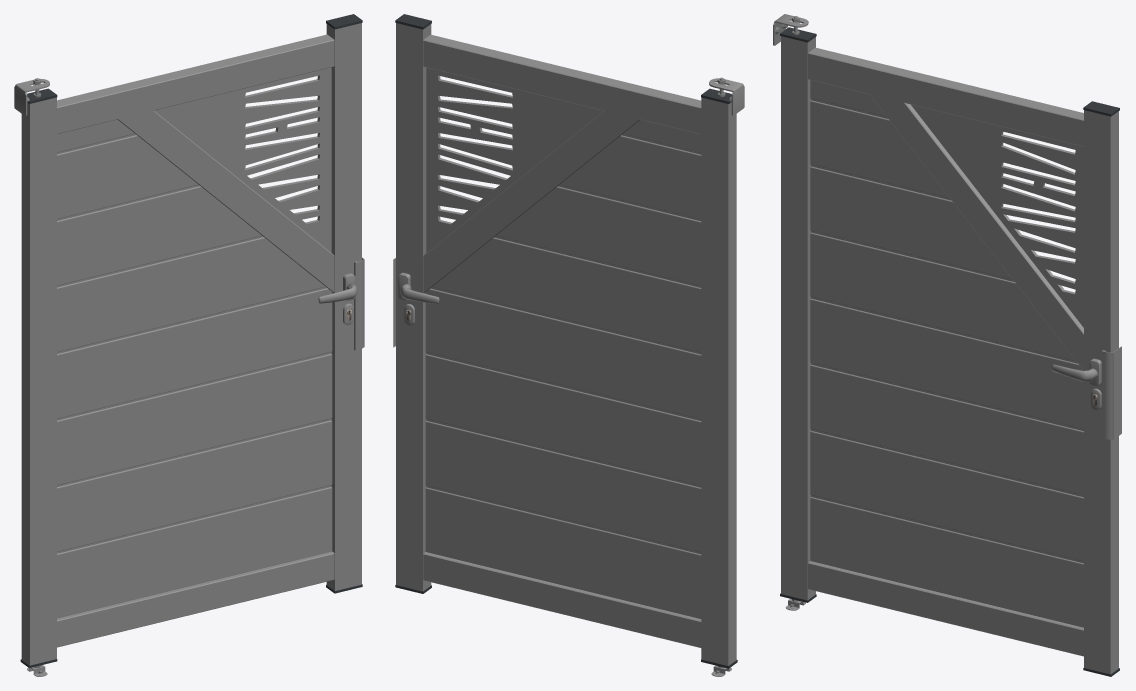
3 views of the same model, side by side, from view 1: azimuth 30°, elevation 25°; view 2: azimuth 150°, elevation 25°; view 3: azimuth 330°, elevation 25° (orthographic).
Visible parts, largest first — view 1: Shape107412707, Shape107412643, Shape107412702, Shape107412701, Shape107411785, Shape107412703, Shape107412638, bambou, montante, montante001, montante002, Shape107412637 (+1 smaller); view 2: Shape107412707, Shape107412643, Shape107412701, Shape107412702, Shape107411785, Shape107412703, Shape107412638, bambou, montante, montante001, montante002, Rectangle057; view 3: Shape107412707, Shape107412701, Shape107412702, Shape107411785, Shape107412703, Shape107412638, Shape107412643, bambou, montante, montante002, montante001, Shape107412637.
Boxes of the visible parts, <box> form: Shape107412707: <box>57,119,325,352</box>; Shape107412643: <box>21,97,56,665</box>; Shape107412702: <box>57,352,332,485</box>; Shape107412701: <box>57,418,332,551</box>; Shape107411785: <box>57,485,332,618</box>; Shape107412703: <box>57,287,332,418</box>; Shape107412638: <box>326,23,361,590</box>; bambou: <box>154,67,331,252</box>; montante: <box>57,34,334,134</box>; montante001: <box>57,551,334,647</box>; montante002: <box>116,95,334,292</box>; Shape107412637: <box>354,257,364,350</box>; Shape107412707: <box>432,120,701,352</box>; Shape107412643: <box>701,97,736,665</box>; Shape107412701: <box>425,419,701,552</box>; Shape107412702: <box>425,352,701,485</box>; Shape107411785: <box>425,485,701,618</box>; Shape107412703: <box>425,287,701,419</box>; Shape107412638: <box>396,23,431,591</box>; bambou: <box>426,67,603,252</box>; montante: <box>423,34,701,134</box>; montante001: <box>423,552,701,647</box>; montante002: <box>423,110,640,293</box>; Rectangle057: <box>709,78,744,115</box>; Shape107412707: <box>810,80,1076,361</box>; Shape107412701: <box>810,429,1083,561</box>; Shape107412702: <box>810,363,1083,495</box>; Shape107411785: <box>810,495,1083,627</box>; Shape107412703: <box>810,297,1083,429</box>; Shape107412638: <box>1084,110,1118,674</box>; Shape107412643: <box>781,36,815,600</box>; bambou: <box>911,104,1083,327</box>; montante: <box>808,47,1083,146</box>; montante002: <box>868,78,1083,370</box>; montante001: <box>808,561,1083,656</box>; Shape107412637: <box>1101,346,1121,439</box>.
Size of the model in its own units: 1015 by 1688 by 152.
7 materials, 4 textured.
